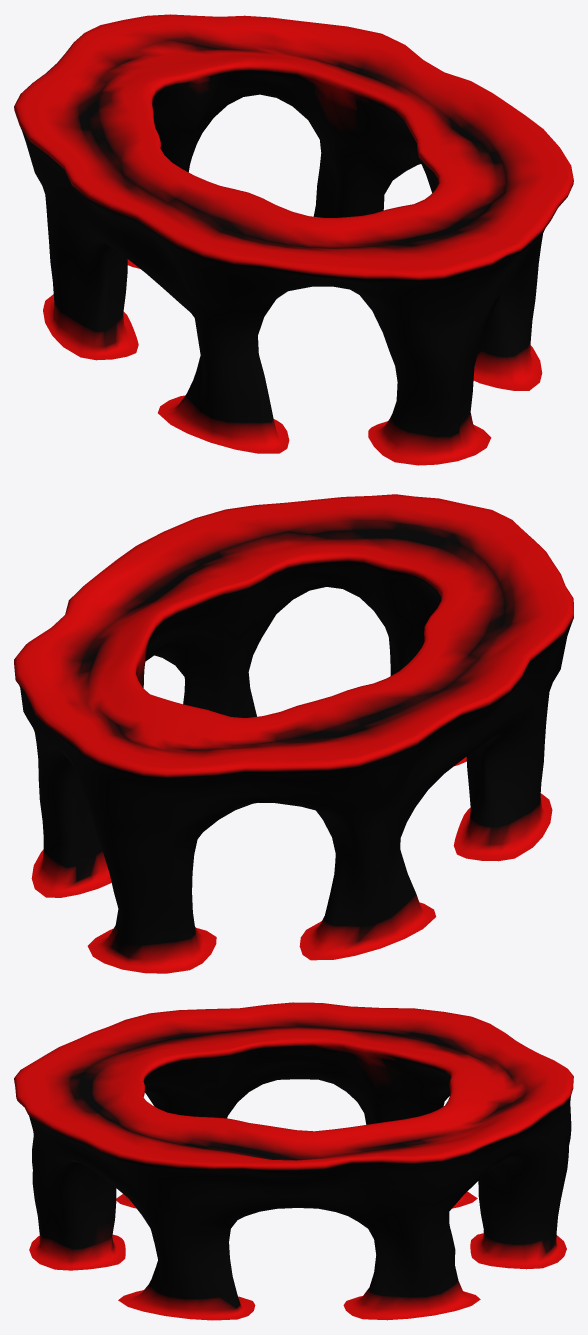
File: GroundObject10C.fbx
3 renders of one model, top to bottom at view 1: azimuth 30°, elevation 25°; view 2: azimuth 150°, elevation 25°; view 3: azimuth 270°, elevation 25°, orthographic. The views are drawn at different scales.
Parts seen in each view (by area): view 1: GroundObject10C; view 2: GroundObject10C; view 3: GroundObject10C.
Part boxes in pixels (bbox=[...]): GroundObject10C: bbox=[14, 14, 573, 465]; GroundObject10C: bbox=[14, 494, 573, 973]; GroundObject10C: bbox=[14, 1002, 573, 1320].
Size of the model in its own units: 4.26 by 2.01 by 6.16.
